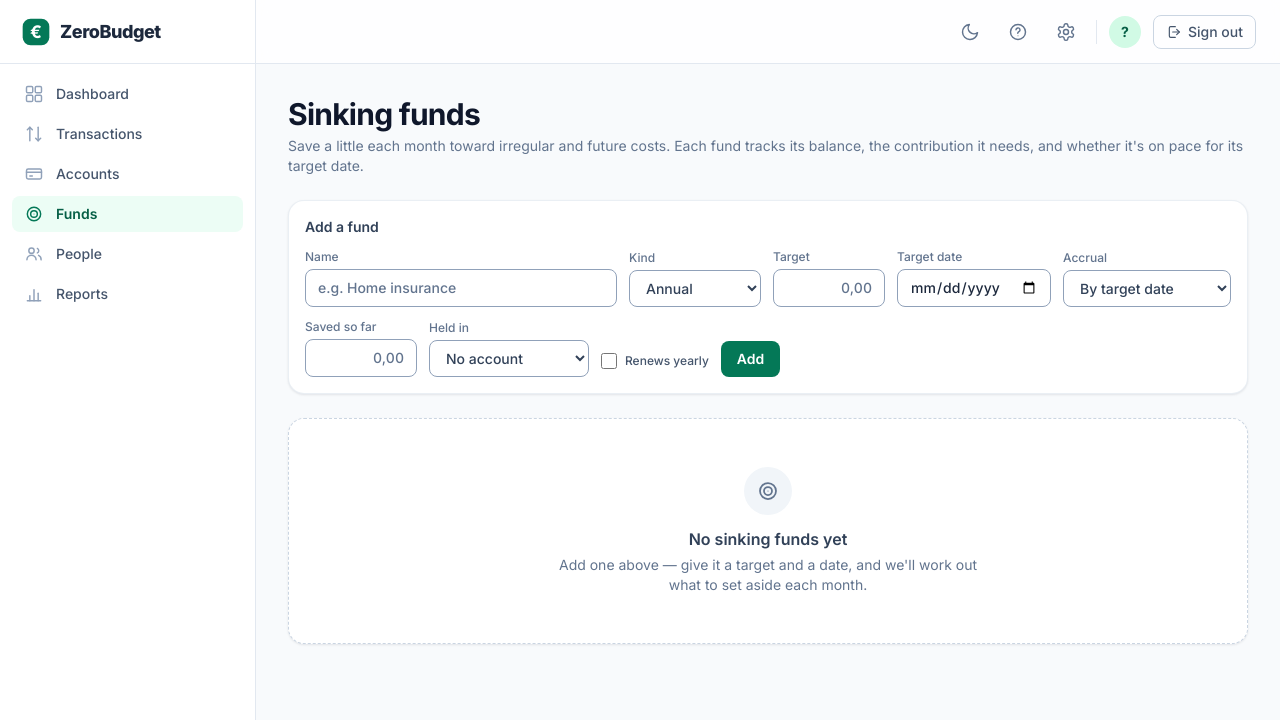
Test case: FundsPage › adds a fund
Type "Vacation" into the field named "Fund name" at (461, 288), box top-left (305, 269), bottom-right (617, 307)
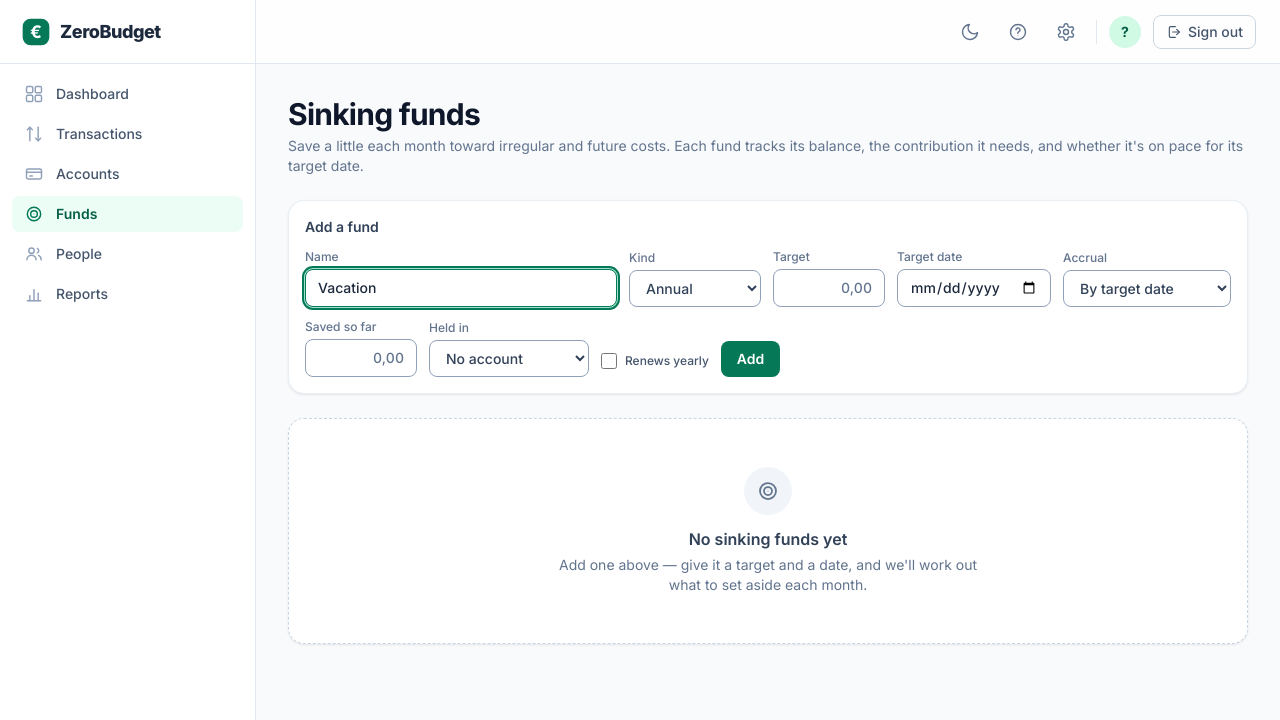
Type "1200" into the field named "Target amount" at (829, 288), box top-left (773, 269), bottom-right (885, 307)
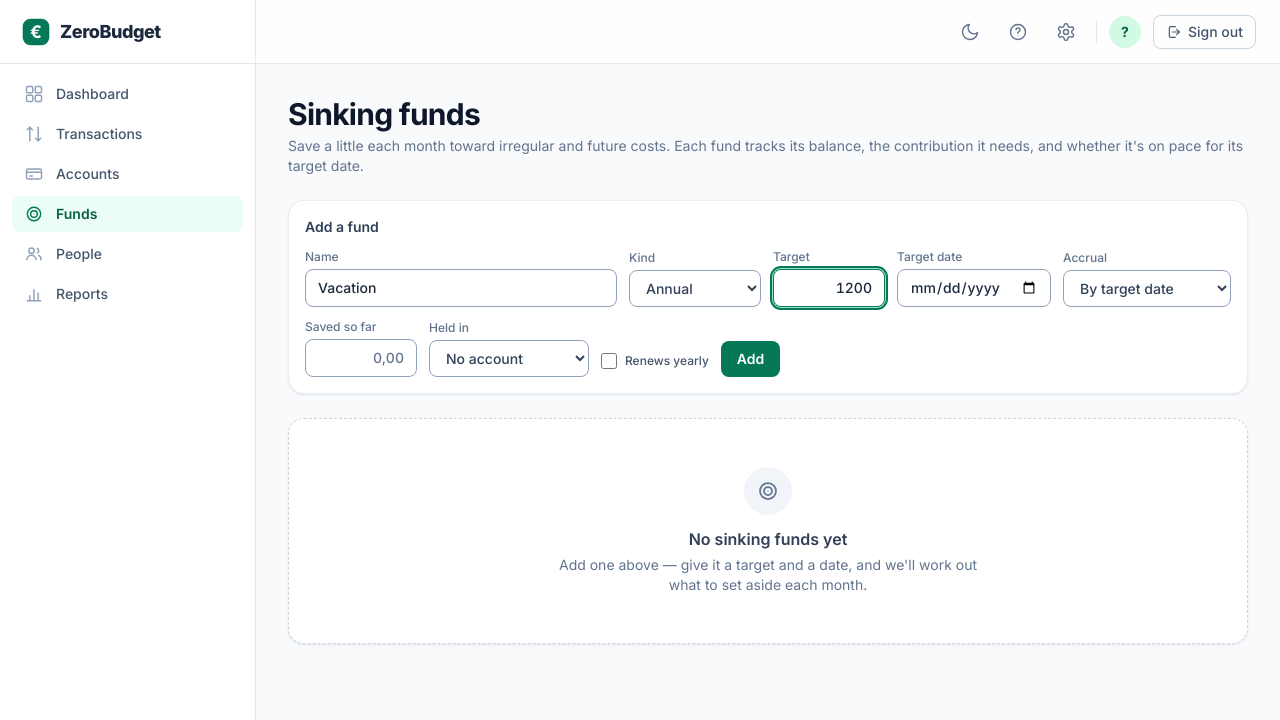
Click the button with aria-label "Add fund" at (751, 359), box top-left (721, 341), bottom-right (780, 377)
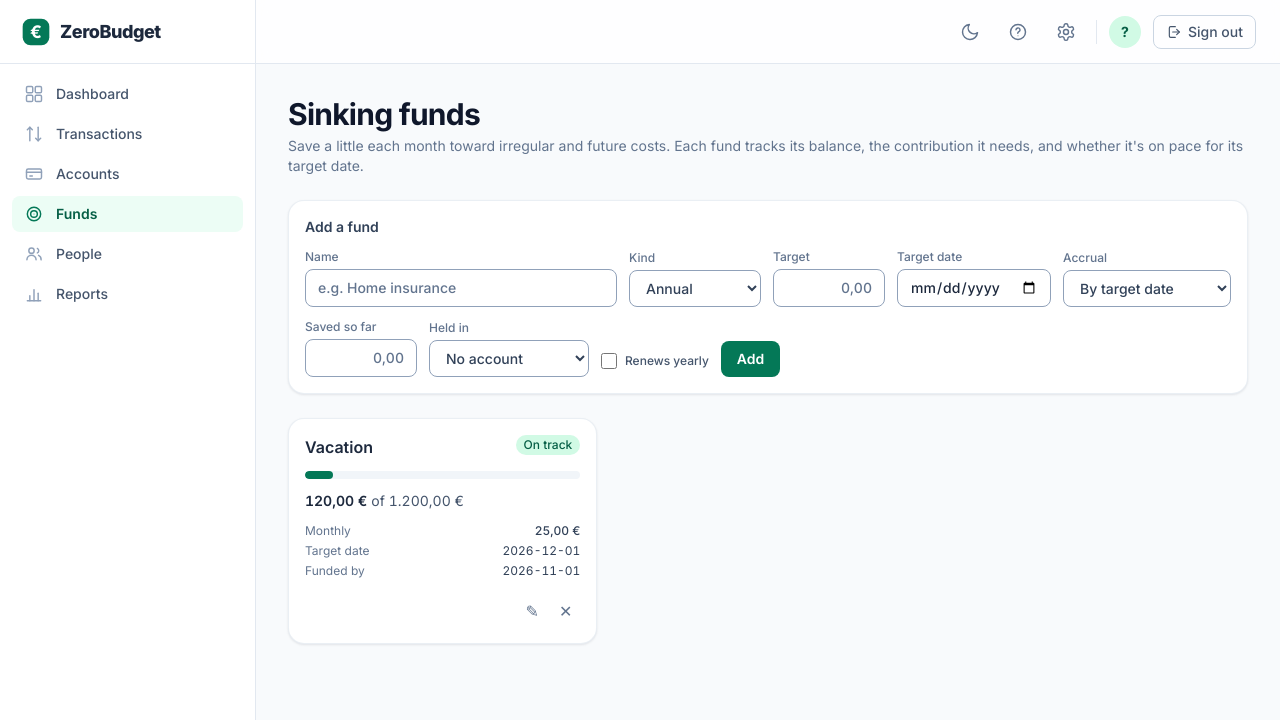
expect the heading "Vacation" is shown: met, box top-left (305, 435), bottom-right (373, 459)
